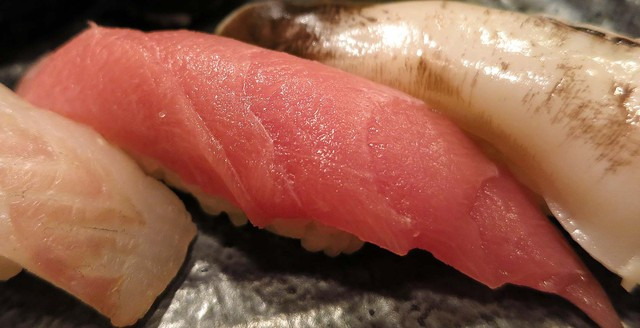medium_fatty_tuna: (41, 26, 604, 320)
